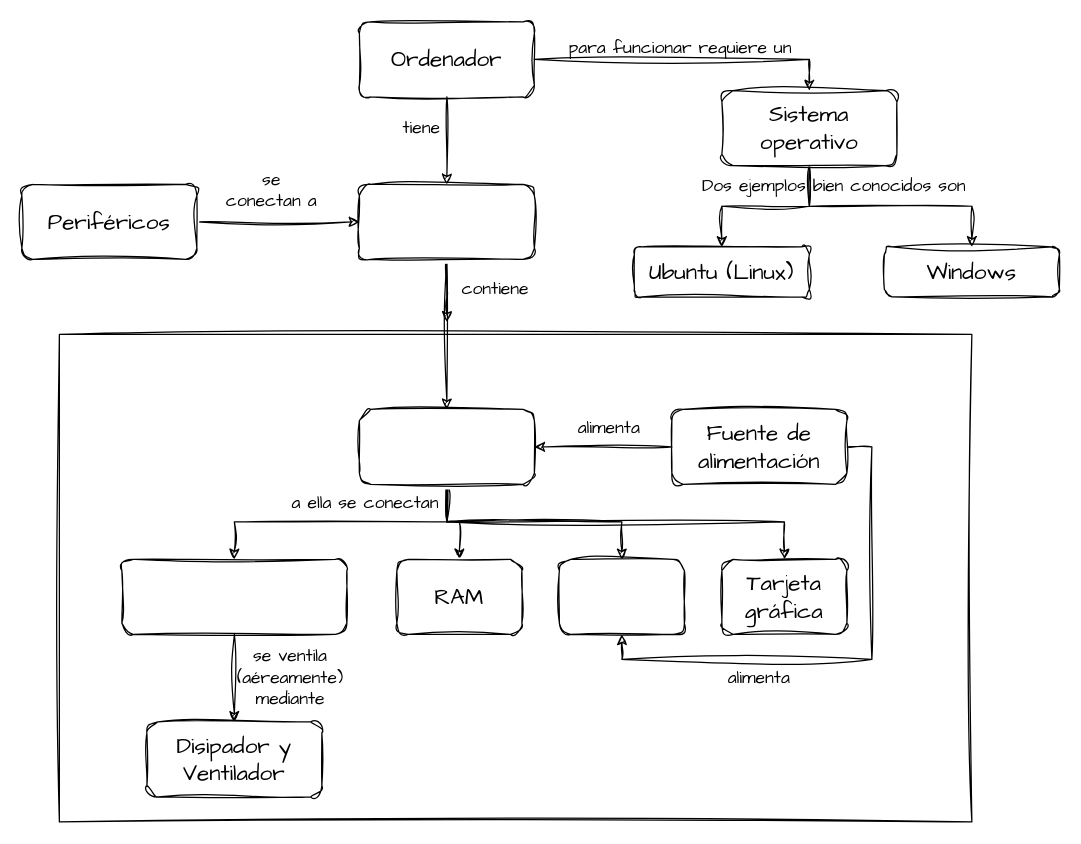
Some shapes in this 1081 by 844 pixel diagram are drawn without their labels. The shapes that lost their labels are listed below. From the top down, each one's centre as x and y in pixels, then its label:
[446,221]: Caja/Torre
[446,446]: Placa base
[234,596]: Microprocesador
[621,596]: Disco duro / SSD
